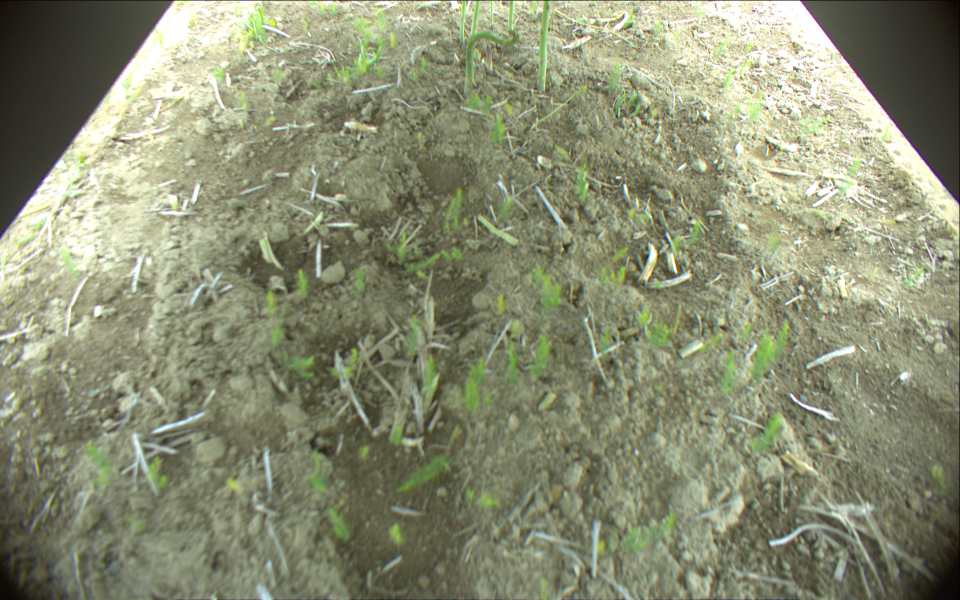aspa: (465, 24, 519, 92), (555, 9, 626, 41), (537, 1, 551, 94), (460, 1, 470, 45), (470, 1, 481, 37), (508, 1, 515, 33), (486, 42, 492, 73), (489, 1, 495, 27)
